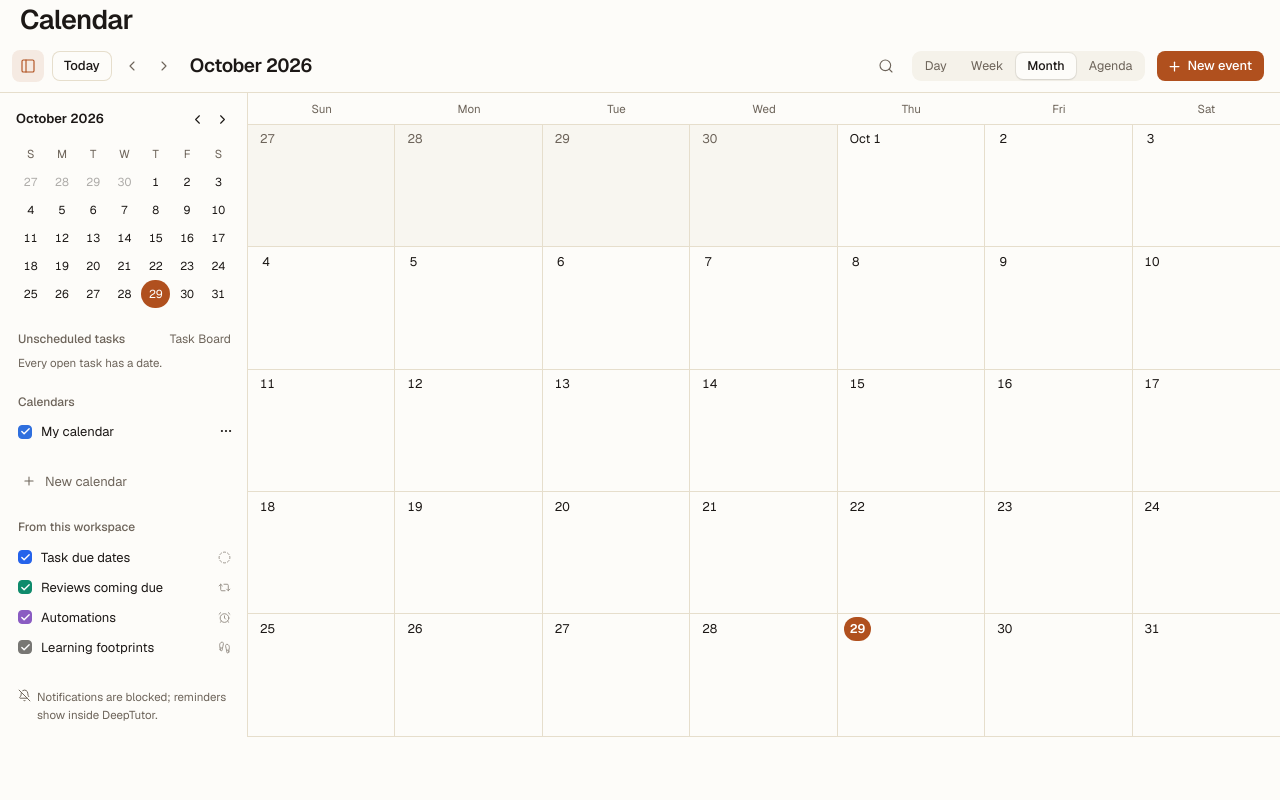
Test case: creates an event, shows it in the agenda, and deletes it with undo available
Click the button "New event" at (1211, 66), box x1=1157 y1=51 x2=1264 y2=81
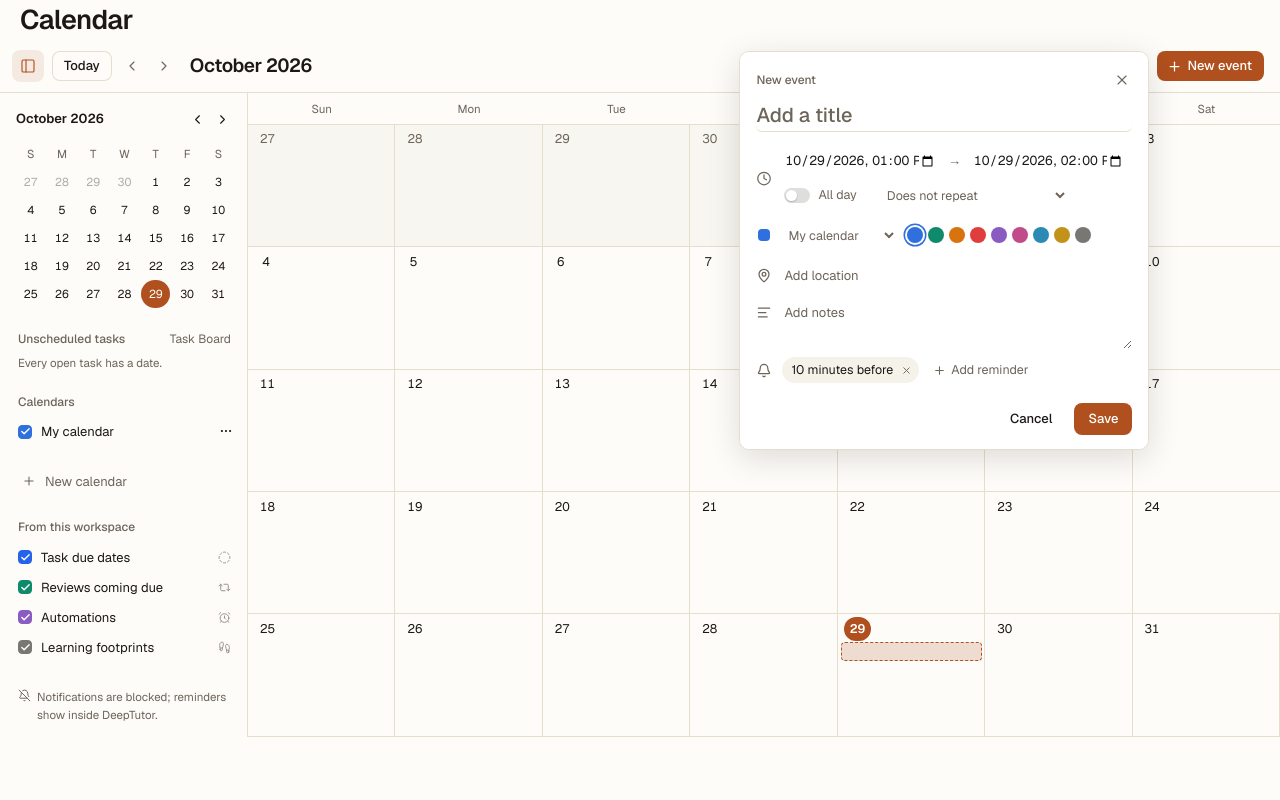
Type "Study algebra" into the field named "Event title" at (944, 117), box x1=756 y1=102 x2=1132 y2=132
Click the button "Save" at (1103, 419), box x1=1074 y1=403 x2=1132 y2=435
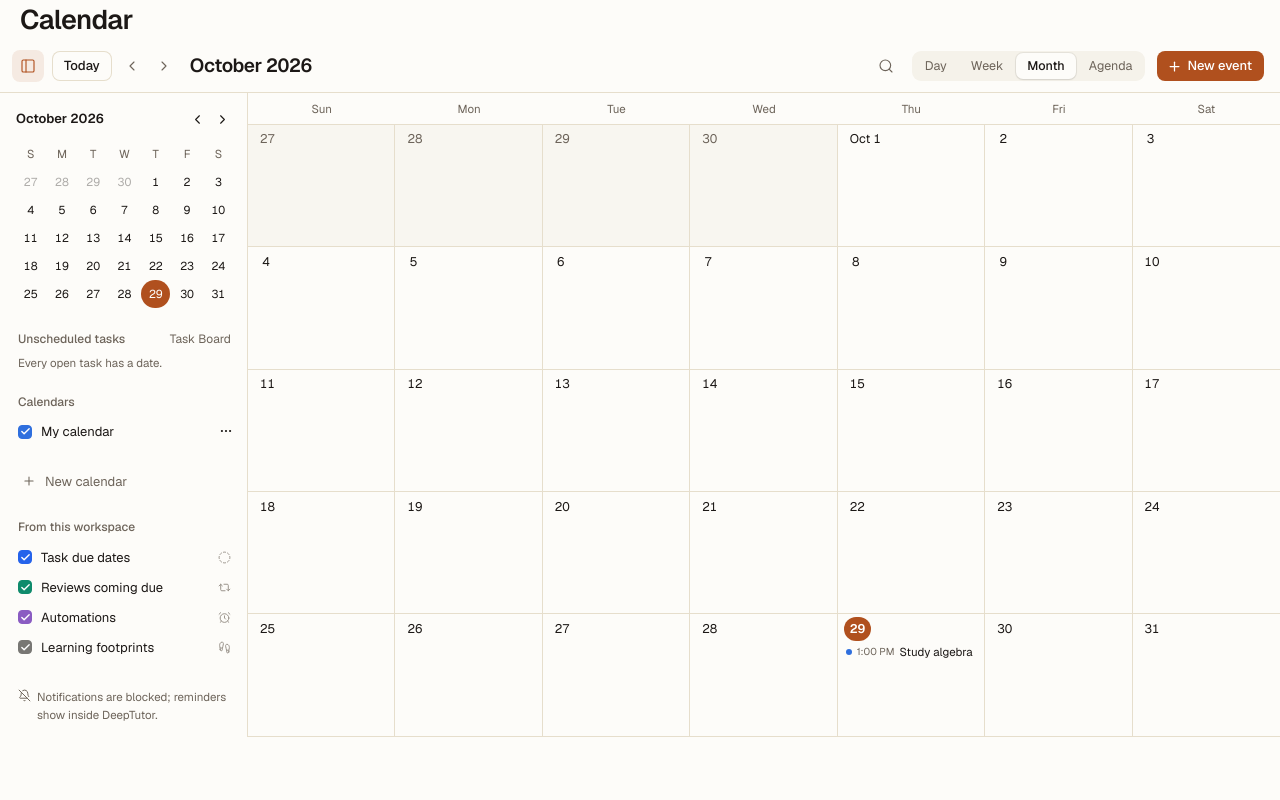
Expected: the dialog is gone
Expected: the text "Study algebra" is shown, x1=900 y1=643 x2=977 y2=660
Click the tab "Agenda" at (1111, 66), box x1=1078 y1=53 x2=1143 y2=79
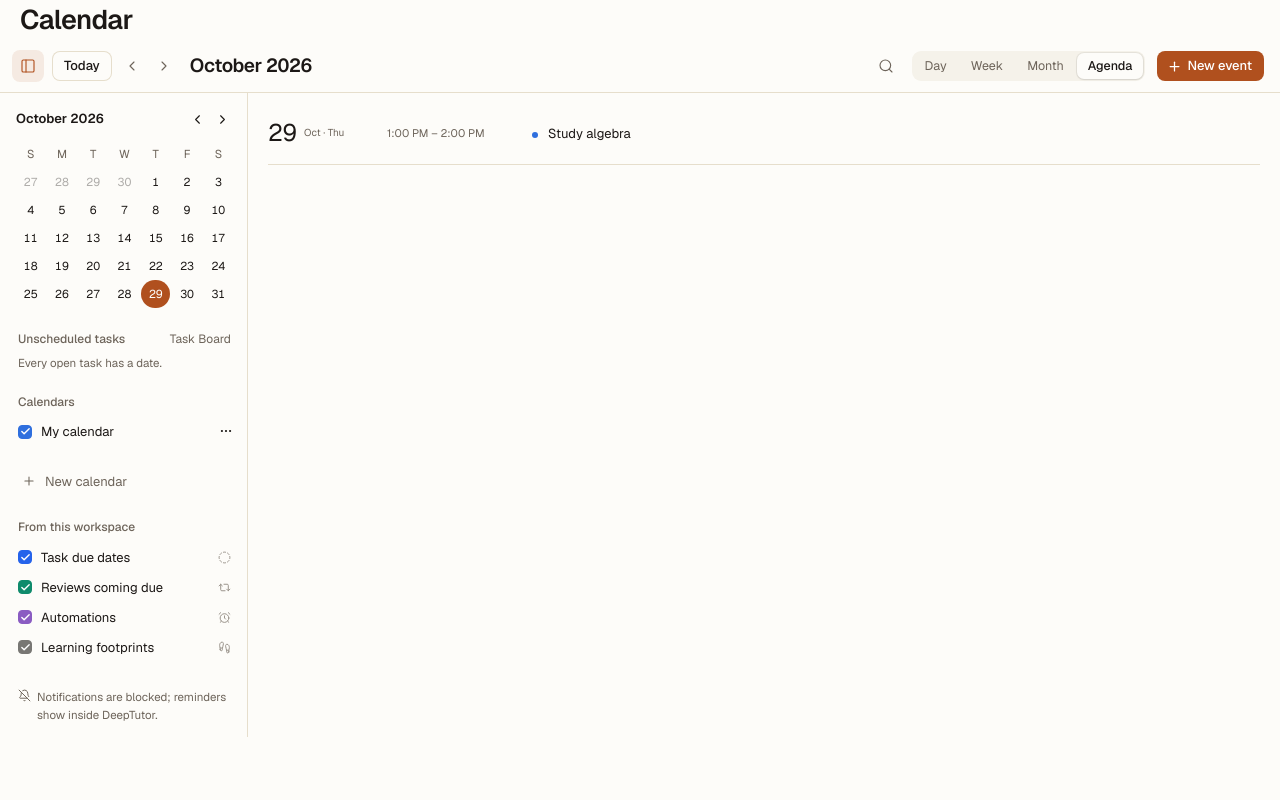
Click the button "1:00 PM – 2:00 PM Study algebra" at (436, 133), box x1=381 y1=114 x2=1260 y2=152
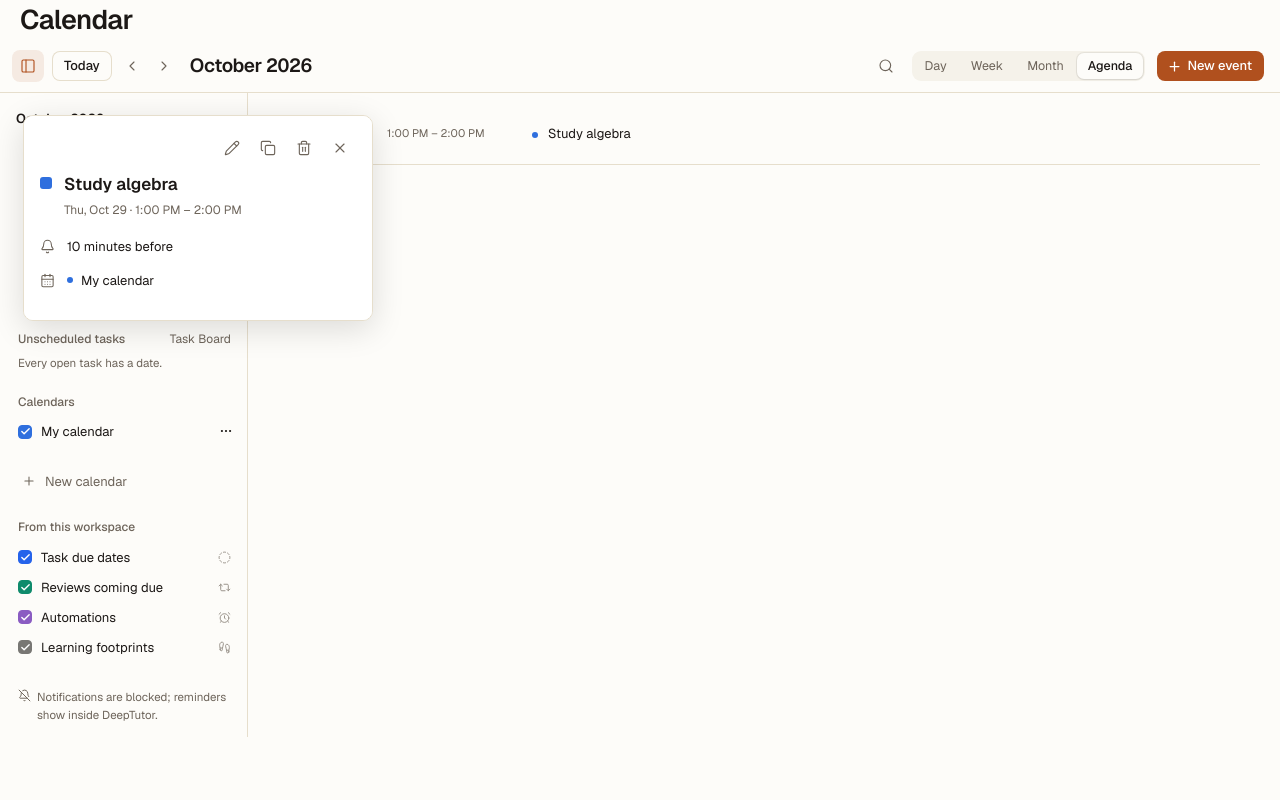
Click the button named "Delete event" at (304, 148), box x1=288 y1=132 x2=320 y2=164
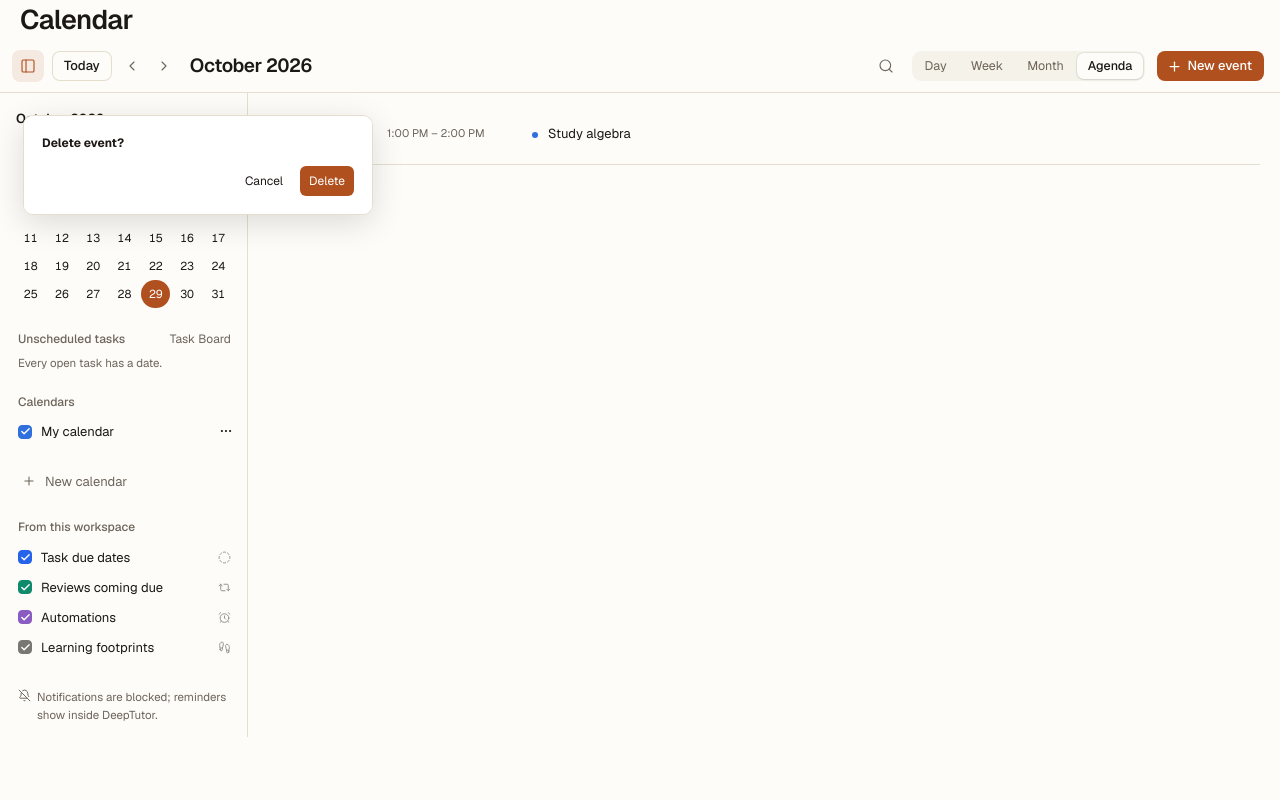
Click the button "Delete" at (327, 180), box x1=300 y1=166 x2=354 y2=196
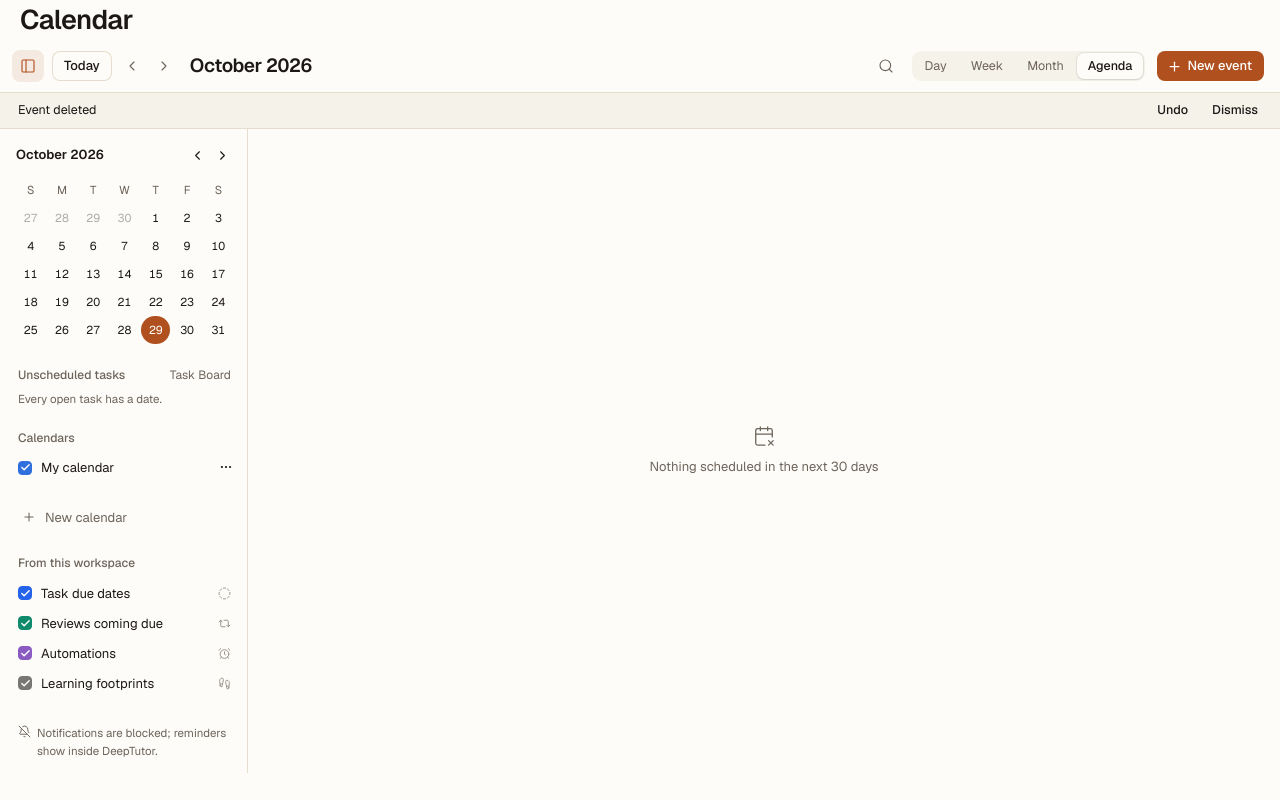
Expected: the button "Undo" is shown, x1=1147 y1=97 x2=1198 y2=123
